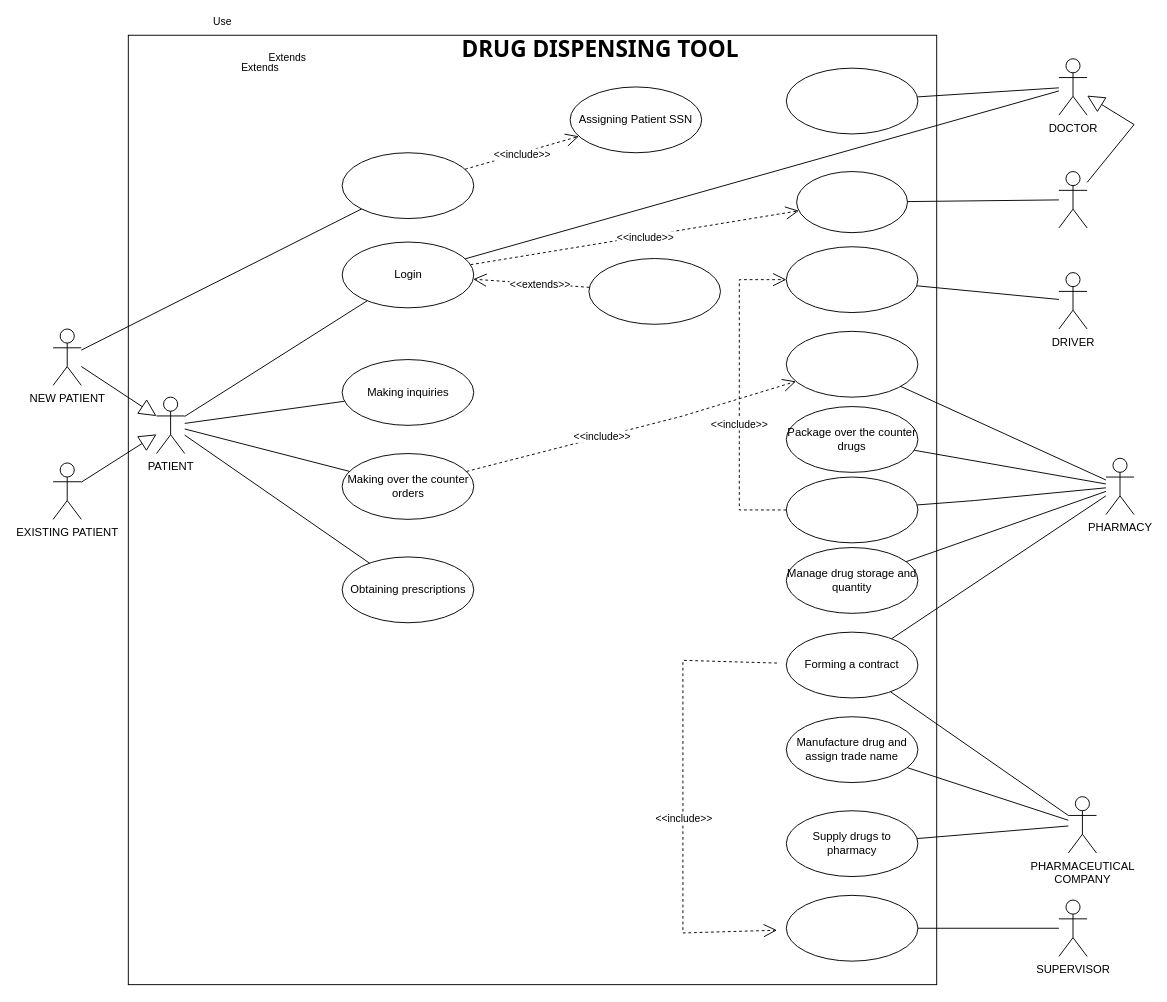
The diagram is 1167 pixels wide and 1002 high, and some of its shapes have lost their labels. Each missing label, with the centre of its shape:
Assigned to a patient: [851,202]
Creating an account: [407,185]
Deliver orders: [851,279]
Designate drivers for orders: [851,509]
Giving prescription: [851,100]
Patient SSN error: [654,291]
PHYSICIAN: [1072,199]
Prescribe drugs and manage prescriptions: [851,363]
Supervise contract between company and pharmacy: [851,927]
